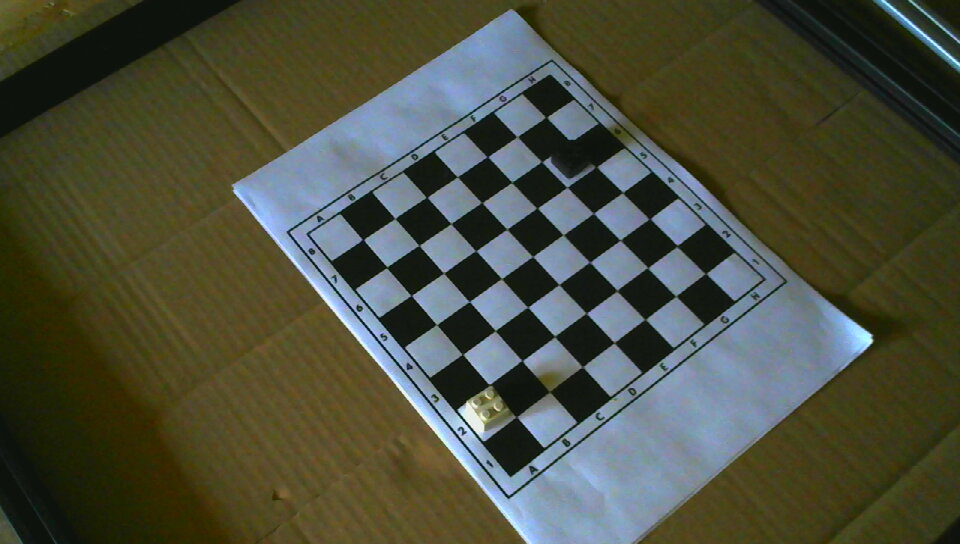bp: (552, 141, 589, 179)
wp: (466, 386, 510, 432)
